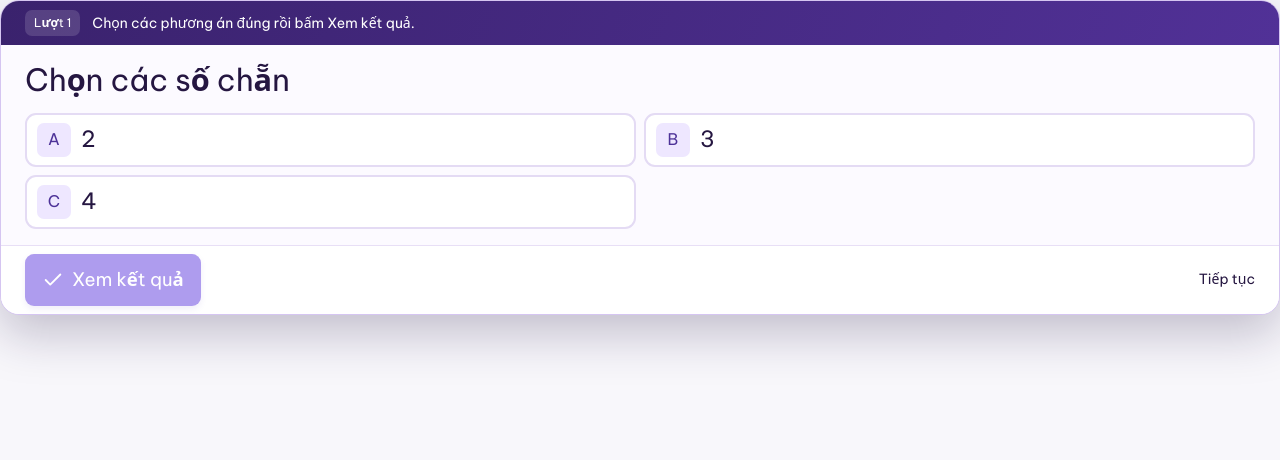
Test case: auto-grades the selected options [2,0] only after confirmation
Expected: the button "Xem kết quả" is disabled, [25,254,201,306]
What coordinates should you click on to do the following:
click the button "C 4"
I would click on:
 (54, 202)
Its box is [25,174,636,228].
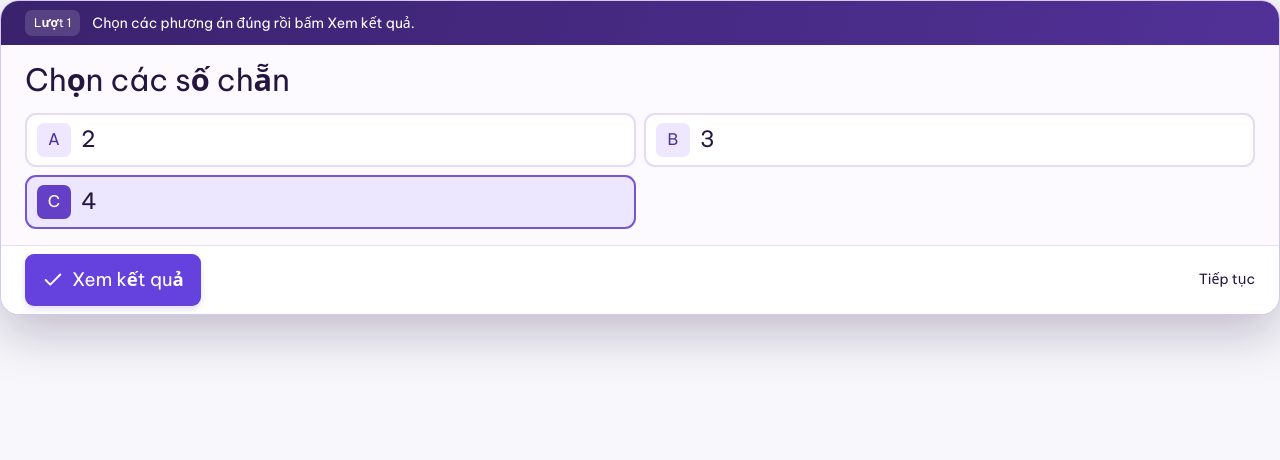
What coordinates should you click on to do the following:
click the button "A 2"
I would click on:
 (54, 140)
Its box is [25,112,636,166].
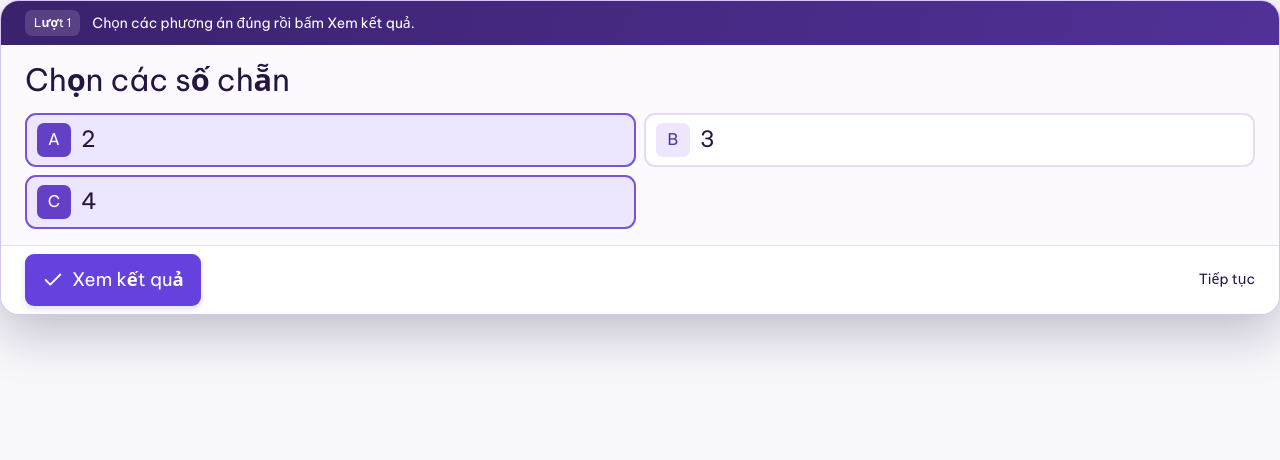
Now the button "Xem kết quả" is enabled
What coordinates should you click on to do the following:
click the button "Xem kết quả"
I would click on:
 (113, 280)
Its box is [25,254,201,306].
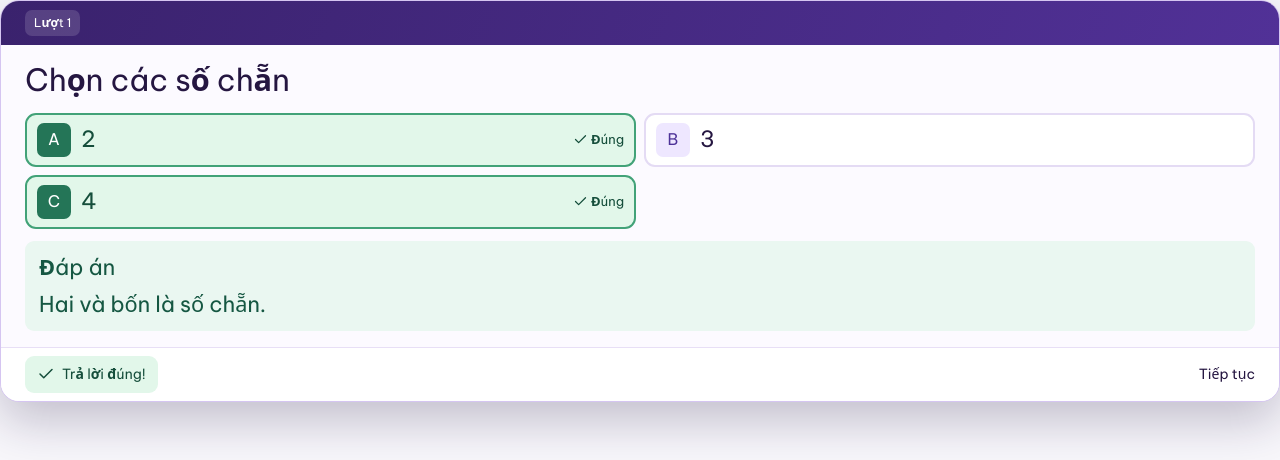
Now the message reads "Trả lời đúng!", box [62,365,146,383]
Now the text "Đúng" is shown 2 times, box [573,131,624,148]; [573,193,624,210]
Now the text "Hai và bốn là số chẵn." is shown, box [39,290,266,318]
